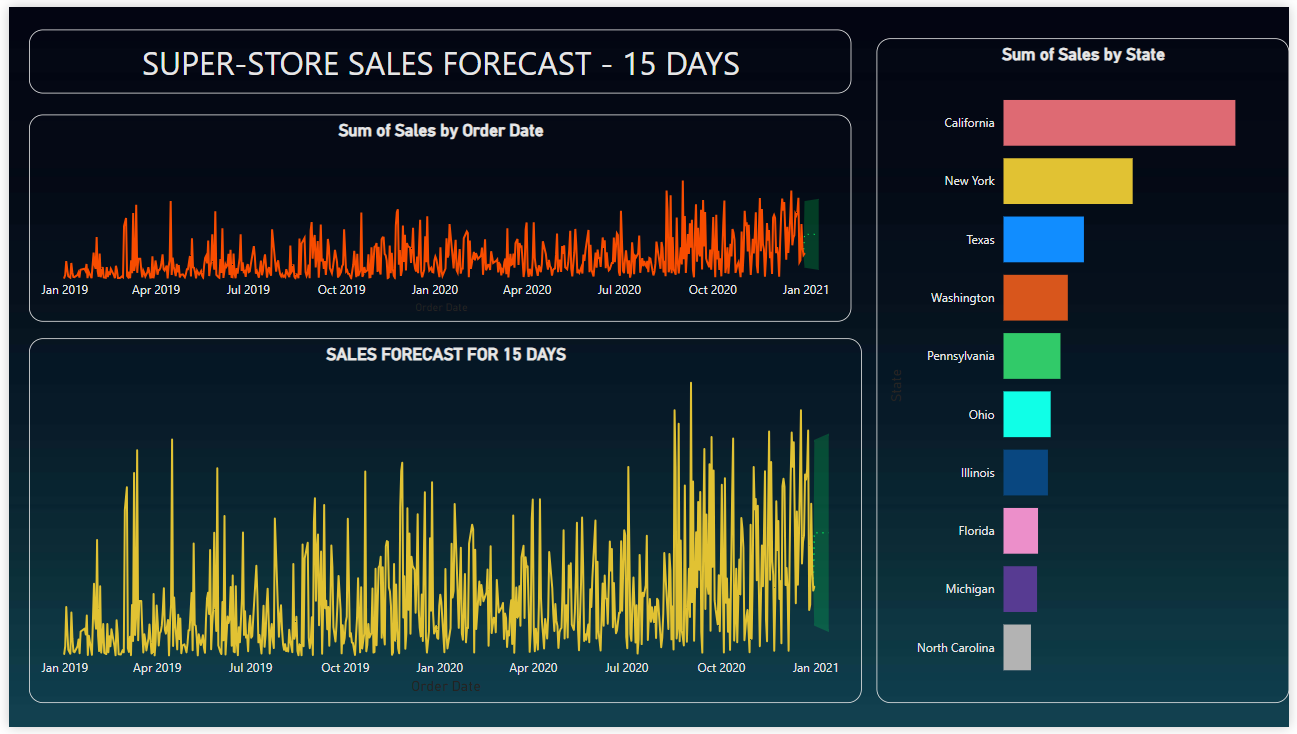

This screenshot's page, from the dashboard's own definition file:
{"tool":"powerbi","page":{"name":"Page 2","canvas":[1280,720],"ordinal":1},"visuals":[{"type":"lineChart","fields":{"Y":["Sum(SuperStore_Sales_Dataset.Sales)"],"Category":["SuperStore_Sales_Dataset.Order Date"]},"box":[20,107.5,822.5,207.5],"z":0},{"type":"lineChart","title":"SALES FORECAST FOR 15 DAYS","fields":{"Y":["Sum(SuperStore_Sales_Dataset.Sales)"],"Category":["SuperStore_Sales_Dataset.Order Date"]},"box":[20,331.2,832.5,365],"z":1000},{"type":"clusteredBarChart","fields":{"Y":["Sum(SuperStore_Sales_Dataset.Sales)"],"Category":["SuperStore_Sales_Dataset.State"]},"box":[867.5,31.2,412.5,665],"z":2000},{"type":"textbox","box":[20,22.5,822.5,63.8],"z":3000}]}

Visuals, with their boxes in screenshot pixels (x1, y1, x2, y2), scaled from the page's 1280x720 canvas onto the 1297x734 screenshot:
lineChart - Sum(SuperStore_Sales_Dataset.Sales) x SuperStore_Sales_Dataset.Order Date: (x1=20, y1=110, x2=854, y2=321)
"SALES FORECAST FOR 15 DAYS" lineChart: (x1=20, y1=338, x2=864, y2=710)
clusteredBarChart - Sum(SuperStore_Sales_Dataset.Sales) x SuperStore_Sales_Dataset.State: (x1=879, y1=32, x2=1296, y2=710)
textbox: (x1=20, y1=23, x2=854, y2=88)
